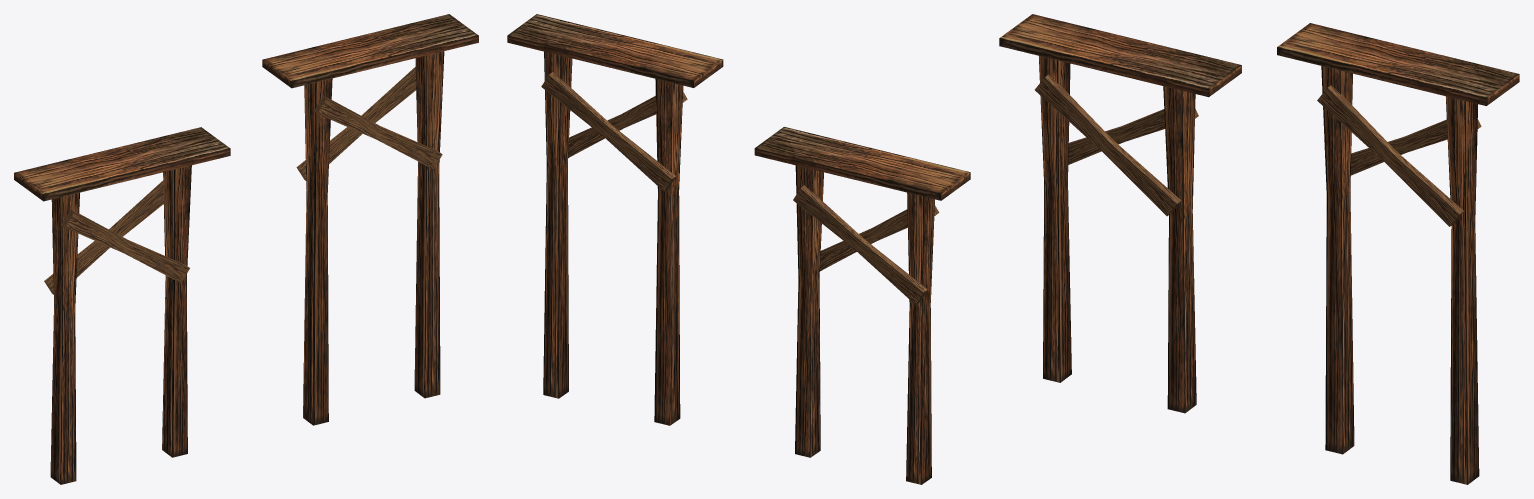
The model's file is LAKETOWN_WAREHOUSE2_PS_WH2_PLATFORM1_388__GX.fbx.
3 renders of one model, left to right at view 1: azimuth 30°, elevation 25°; view 2: azimuth 150°, elevation 25°; view 3: azimuth 330°, elevation 25°, orthographic. The views are drawn at different scales.
Parts seen in each view (by area): view 1: LAKETOWN_WAREHOUSE2_PS_WH2_PLATFORM1_388__GX; view 2: LAKETOWN_WAREHOUSE2_PS_WH2_PLATFORM1_388__GX; view 3: LAKETOWN_WAREHOUSE2_PS_WH2_PLATFORM1_388__GX.
Part boxes in pixels (x1,y1,x2,y2): LAKETOWN_WAREHOUSE2_PS_WH2_PLATFORM1_388__GX: (14, 14, 478, 484); LAKETOWN_WAREHOUSE2_PS_WH2_PLATFORM1_388__GX: (507, 14, 970, 484); LAKETOWN_WAREHOUSE2_PS_WH2_PLATFORM1_388__GX: (999, 14, 1519, 484).
Size of the model in its own units: 94186 by 74506 by 11045.
3 materials, 3 textured.
